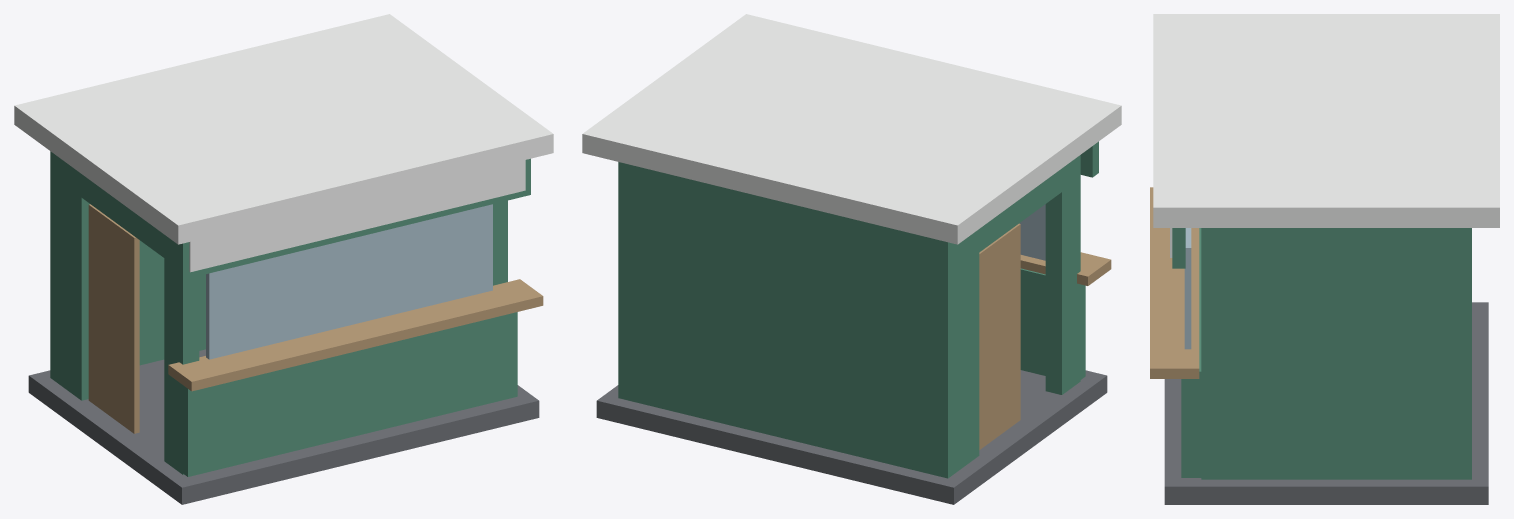
The model's file is racecourse-and-parade-ring-tote-hut-ff13220f__38629.glb.
3 views of the same model, side by side, from view 1: azimuth 30°, elevation 25°; view 2: azimuth 150°, elevation 25°; view 3: azimuth 270°, elevation 25° (orthographic). The views are drawn at different scales.
Parts seen in each view (by area): view 1: tote-hut, door/timber; view 2: tote-hut, door/timber; view 3: tote-hut.
Part boxes in pixels (box(x1,y1,x2,y2)): tote-hut: box(14, 14, 553, 504); door/timber: box(88, 204, 139, 433); tote-hut: box(582, 14, 1121, 504); door/timber: box(979, 223, 1020, 449); tote-hut: box(1150, 14, 1499, 504).
Bounding box in the file's own units: 4.1 × 2.98 × 3.13.
